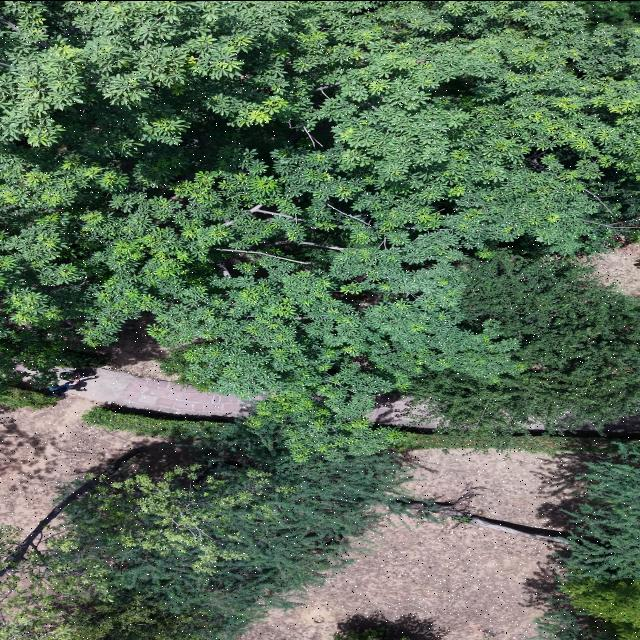DRY_AREA: (0, 317, 247, 529), (0, 360, 248, 530), (0, 368, 240, 531), (243, 520, 556, 639), (242, 521, 556, 639), (242, 521, 555, 639), (243, 521, 556, 639), (0, 395, 162, 532), (0, 393, 157, 531), (69, 319, 249, 419), (69, 317, 249, 416), (76, 318, 249, 416), (75, 320, 249, 416), (77, 325, 249, 415), (55, 367, 250, 419), (69, 365, 250, 419), (67, 367, 250, 420), (69, 367, 249, 416), (73, 367, 248, 415), (80, 368, 249, 416), (90, 312, 177, 380), (92, 313, 176, 379), (114, 377, 246, 415), (592, 243, 639, 295)
PATHWAYS: (75, 367, 248, 415)
VEGETATION_TREE: (0, 1, 639, 639), (1, 1, 639, 458), (2, 1, 636, 252), (2, 408, 407, 639), (2, 423, 407, 639), (1, 1, 298, 155), (411, 442, 639, 639), (407, 252, 639, 429), (411, 443, 639, 581), (564, 443, 639, 580), (0, 540, 103, 639), (0, 321, 107, 408), (0, 322, 107, 388), (576, 167, 639, 254), (400, 428, 616, 453), (404, 428, 616, 453), (82, 406, 236, 440), (562, 578, 639, 639), (533, 606, 639, 639), (333, 614, 448, 639), (534, 610, 618, 639), (0, 386, 57, 409), (582, 1, 639, 22), (334, 627, 386, 639)
